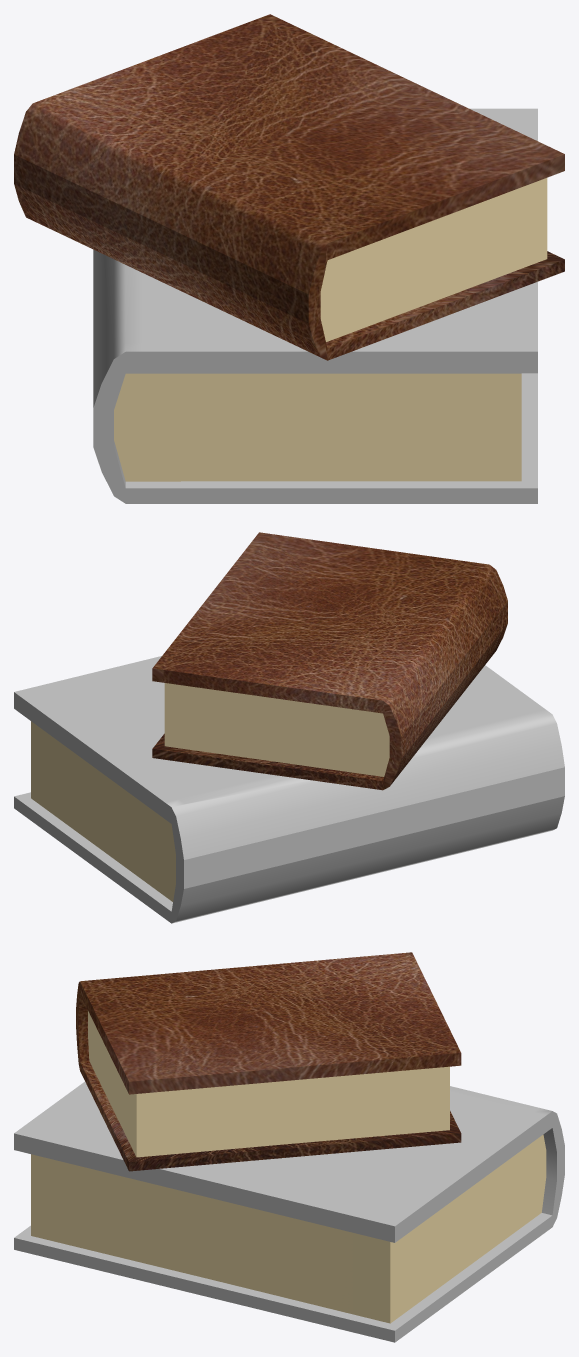
Rendered from books.fbx.
3 views of the same model, one above another, from view 1: azimuth 30°, elevation 25°; view 2: azimuth 150°, elevation 25°; view 3: azimuth 270°, elevation 25° (orthographic). The views are drawn at different scales.
Visible parts, largest first — view 1: book2, book1; view 2: book1, book2; view 3: book1, book2.
Boxes of the visible parts, x1,y1,x2,y2 form: book2: (14,14,564,360); book1: (93,108,537,503); book1: (14,656,564,923); book2: (152,532,507,790); book1: (14,1081,564,1342); book2: (76,952,461,1171).
Bounding box in the file's own units: 5.17 × 2.28 × 5.53.
